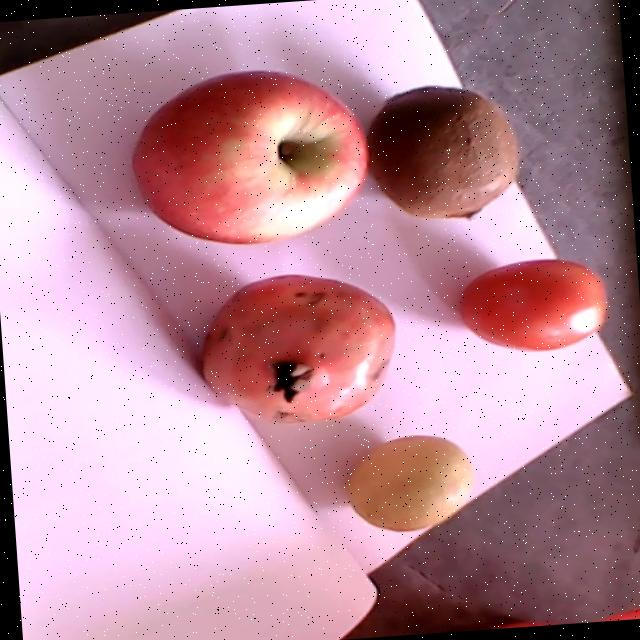apple: (130, 70, 370, 244)
kiwi: (365, 86, 520, 219)
lemon: (350, 435, 469, 530)
pomegranate: (201, 273, 394, 422)
tomato: (458, 259, 605, 350)
